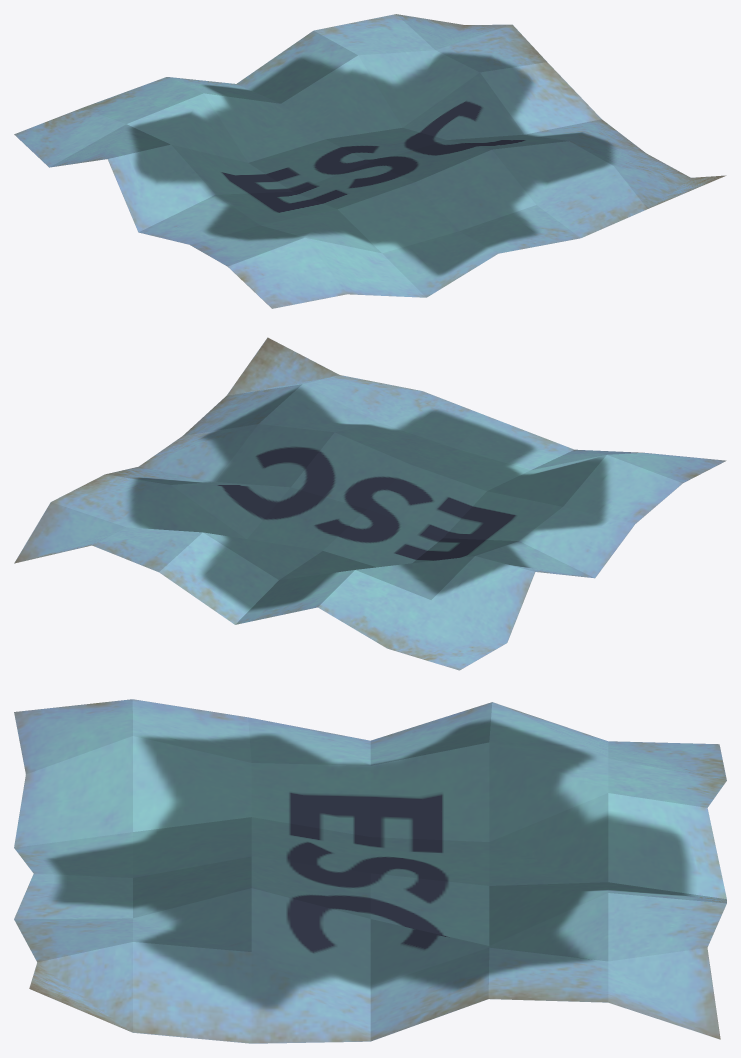
File: paperhouse.gltf
3 renders of one model, top to bottom at view 1: azimuth 30°, elevation 25°; view 2: azimuth 150°, elevation 25°; view 3: azimuth 270°, elevation 25°, orthographic. The views are drawn at different scales.
Parts seen in each view (by area): view 1: Plane; view 2: Plane; view 3: Plane.
Part boxes in pixels (x1,y1,x2,y2): Plane: (14,14,726,308); Plane: (14,337,726,670); Plane: (14,699,726,1043).
Size of the model in its own units: 0.2783 by 0.0271 by 0.2783.
1 material, 1 textured.
